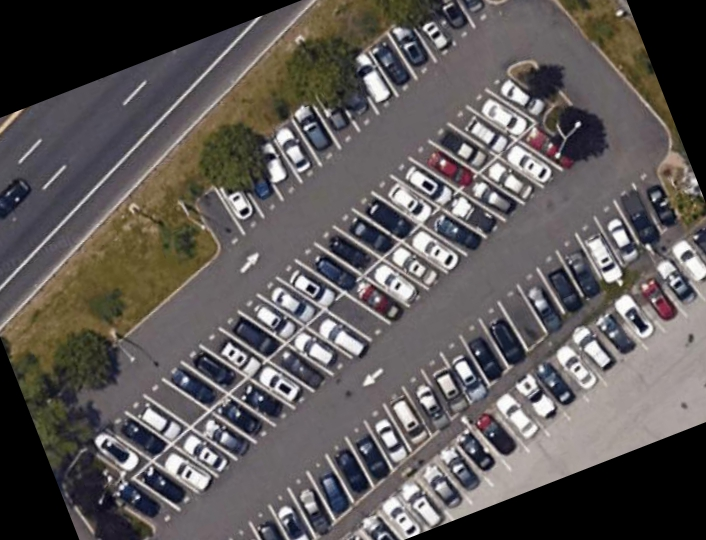parkingspot: (78, 67, 600, 533), (224, 158, 685, 540), (341, 216, 706, 540), (191, 0, 497, 258)
